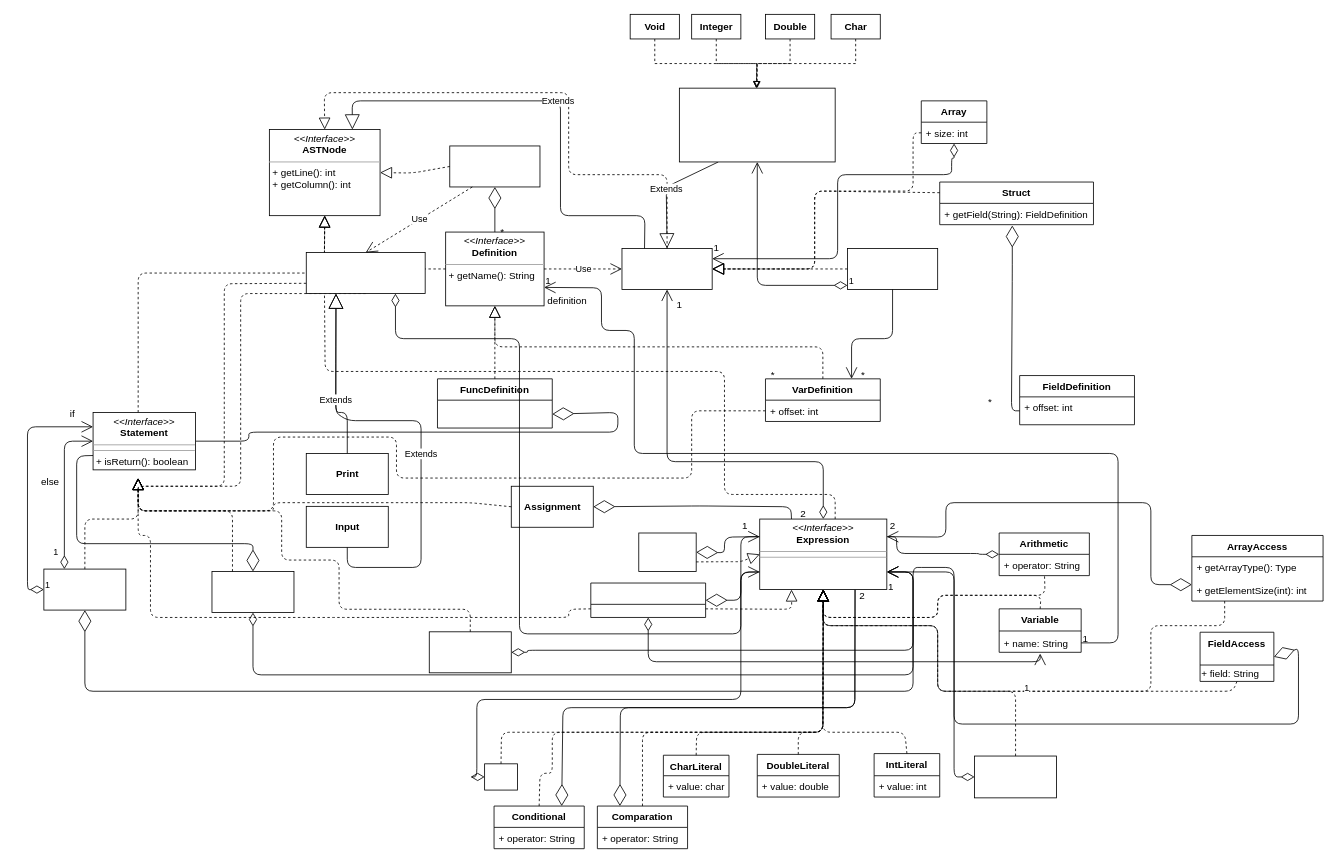
Image size: 1337x865. Some labels were removed from this diagram. Each missing label, with the centre of its shape:
<<Interface>> Type + getSize(): int: pixel 757 124
Cast: pixel 667 552
FunctionInvocation: pixel 648 599
FuncType: pixel 892 268
IfStatement: pixel 84 589
IOStatement: pixel 365 273
Not: pixel 500 776
Program: pixel 494 166
ReturnStatement: pixel 469 652
UnaryMinus: pixel 1015 776
WhileStatement: pixel 252 592
«interface» Type: pixel 666 268
